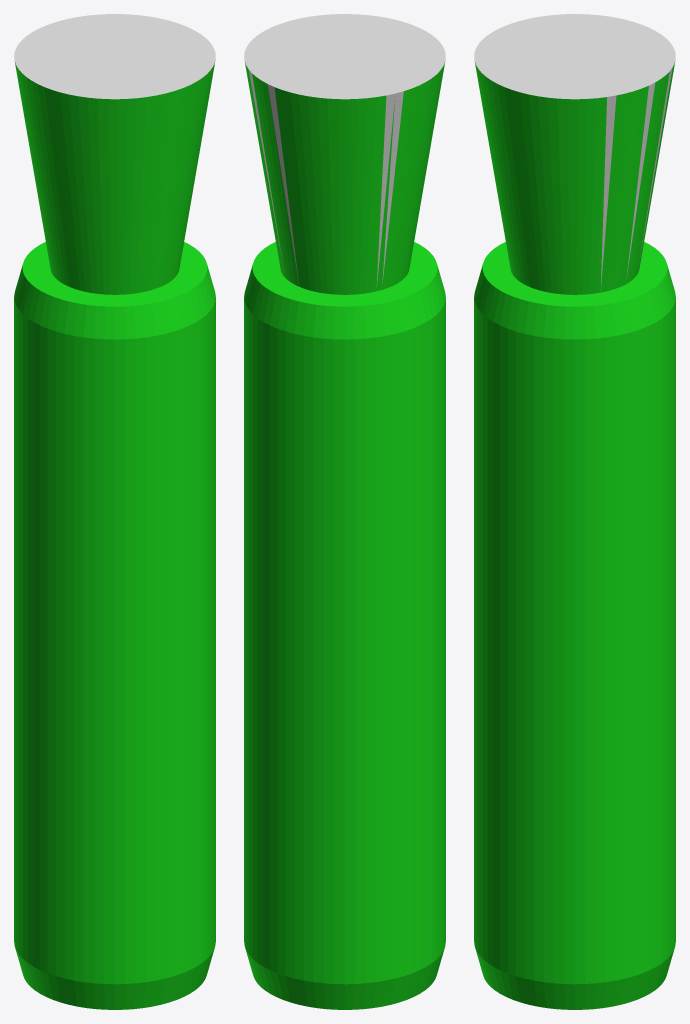
The model's file is flashlight2.glb.
3 views of the same model, side by side, from view 1: azimuth 30°, elevation 25°; view 2: azimuth 150°, elevation 25°; view 3: azimuth 270°, elevation 25° (orthographic).
Visible parts, largest first — view 1: Mesh_Mesh_head_geo.001_lambert2SG.001; view 2: Mesh_Mesh_head_geo.001_lambert2SG.001; view 3: Mesh_Mesh_head_geo.001_lambert2SG.001.
Part boxes in pixels (left/top/right/bottom): Mesh_Mesh_head_geo.001_lambert2SG.001: left=14, top=14, right=215, bottom=1009; Mesh_Mesh_head_geo.001_lambert2SG.001: left=244, top=14, right=445, bottom=1009; Mesh_Mesh_head_geo.001_lambert2SG.001: left=474, top=14, right=675, bottom=1009.
Bounding box in the file's own units: 2 × 10 × 2.
